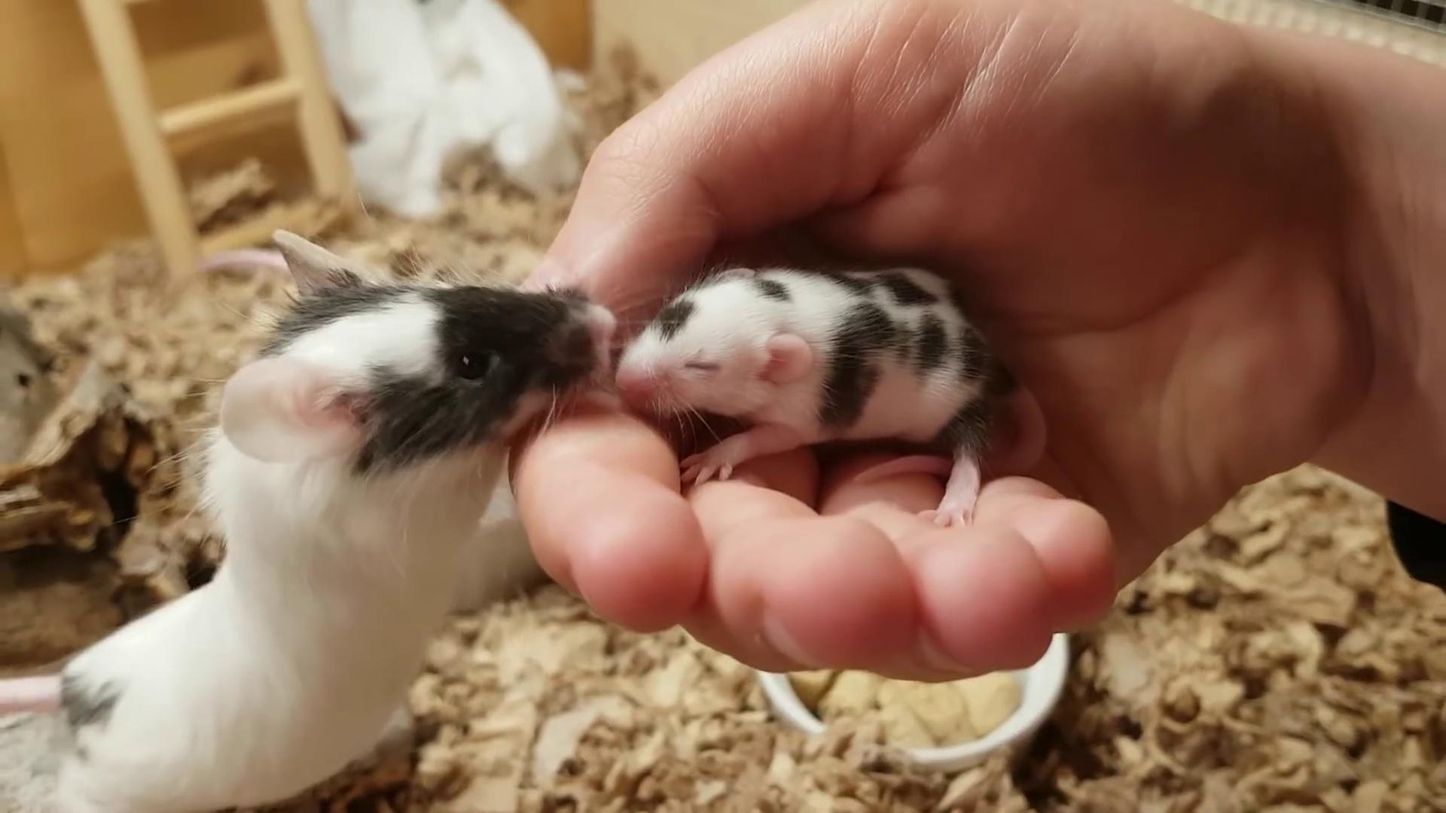rat: (0, 230, 617, 813), (619, 266, 1049, 531)
